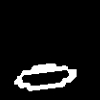chain: (14, 64, 75, 90)
